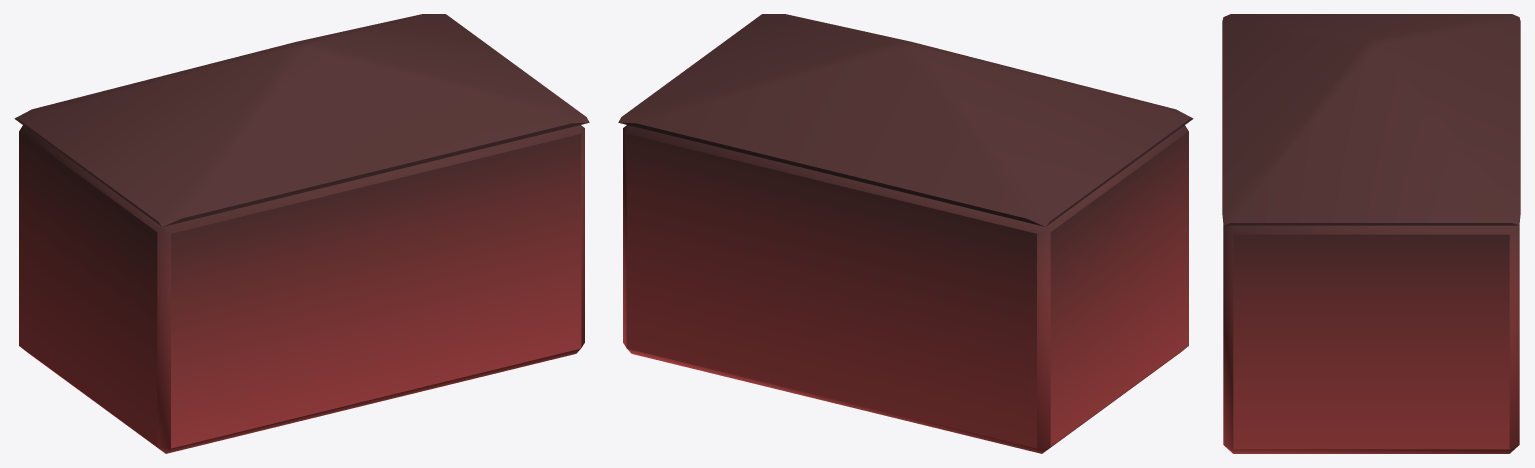
The model's file is hotel.glb.
3 views of the same model, side by side, from view 1: azimuth 30°, elevation 25°; view 2: azimuth 150°, elevation 25°; view 3: azimuth 270°, elevation 25° (orthographic).
Parts seen in each view (by area): view 1: Hotel; view 2: Hotel; view 3: Hotel.
Boxes of the visible parts, bbox=[...] form: Hotel: bbox=[14, 14, 589, 453]; Hotel: bbox=[618, 14, 1193, 453]; Hotel: bbox=[1222, 14, 1520, 453].
Bounding box in the file's own units: 0.5011 × 0.344 × 0.3026.
